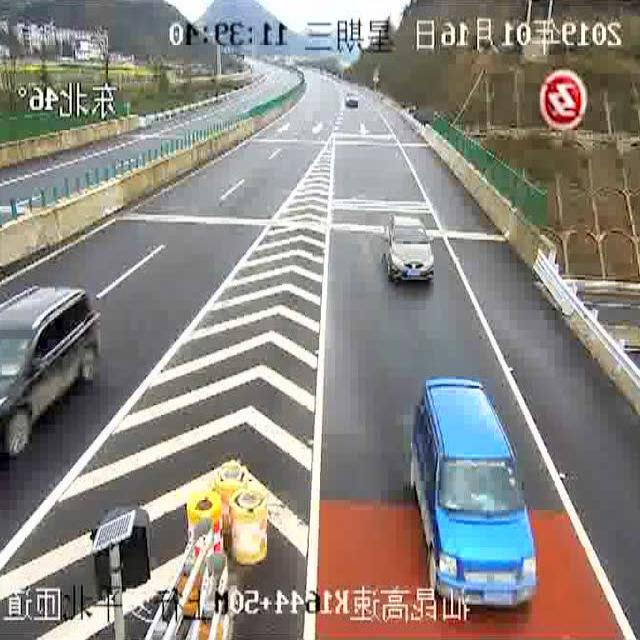point: (206, 17, 389, 182)
